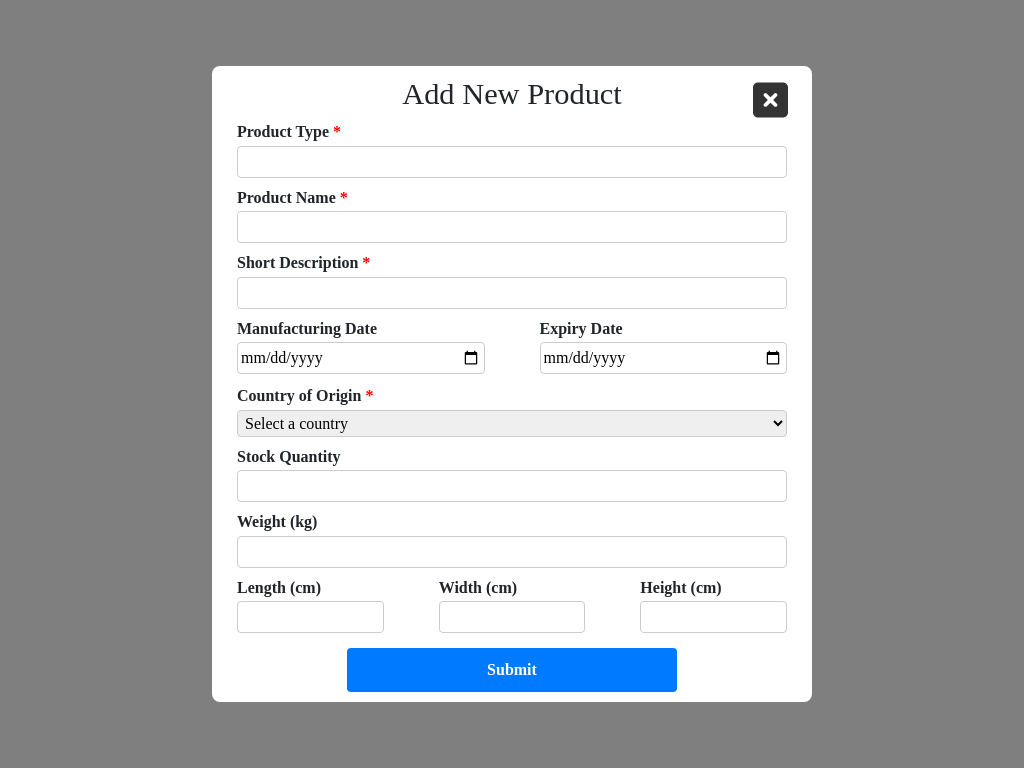
Scenario: ProductCreationModal › validates required fields on form submission
Click the button "Submit": {"x": 512, "y": 670} [347,648,677,692]
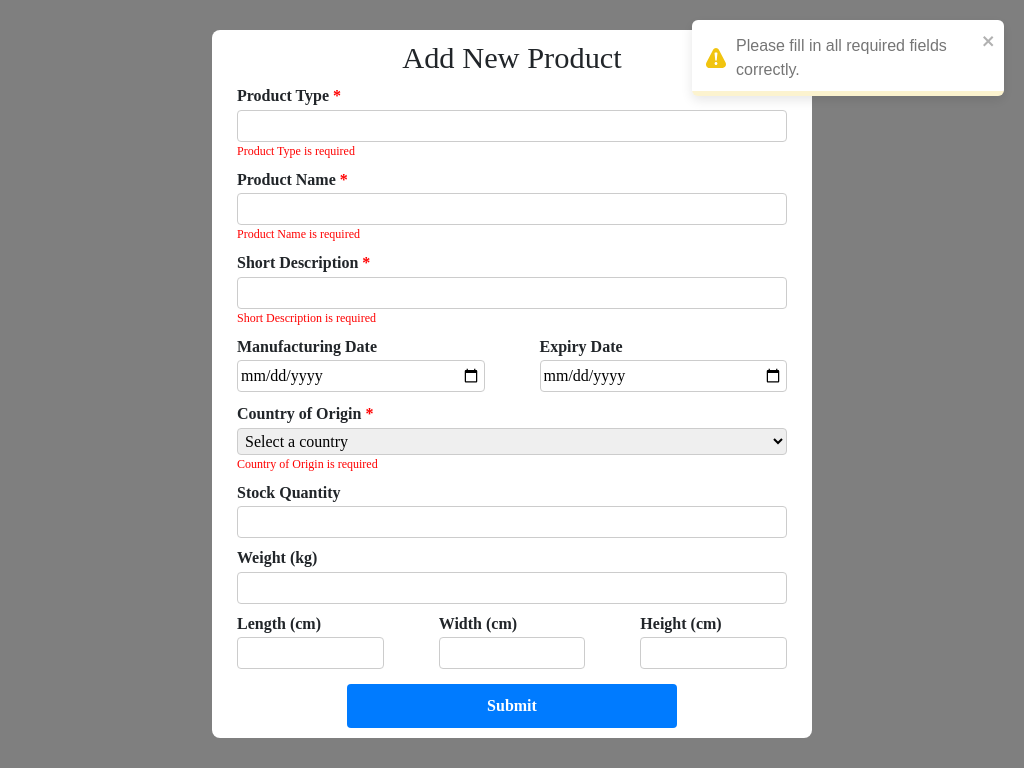
Check: the text "Product Type is required" is shown, box [237,144,355,158]
Check: the text "Product Name is required" is shown, box [237,227,360,241]
Check: the text "Short Description is required" is shown, box [237,311,376,325]
